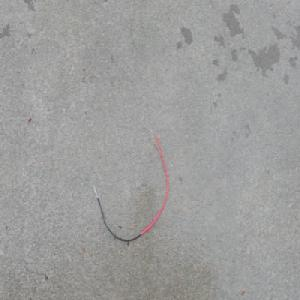Wire: (91, 126, 169, 243)
